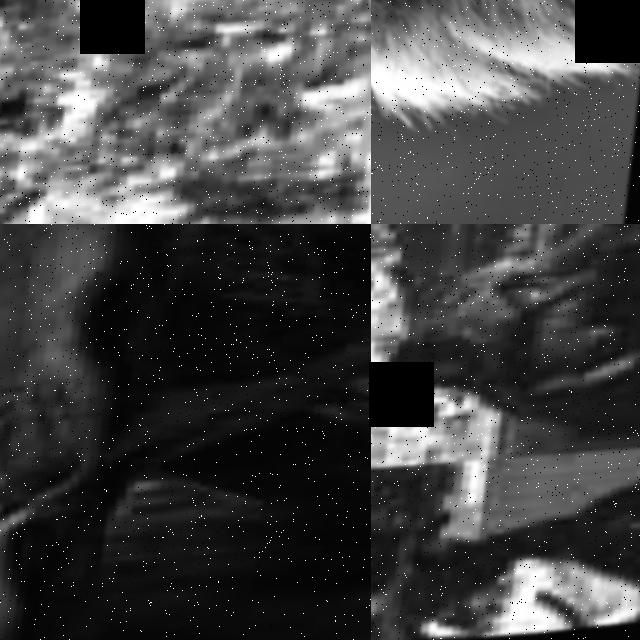dog: (0, 224, 371, 593), (0, 433, 371, 640), (371, 224, 640, 481), (0, 253, 147, 640), (371, 437, 640, 640)
wolf: (371, 0, 640, 209)
